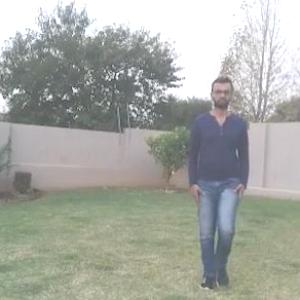follow: (190, 95, 246, 267)
